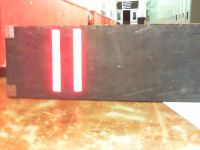switch: (72, 28, 82, 92), (51, 29, 61, 92)
